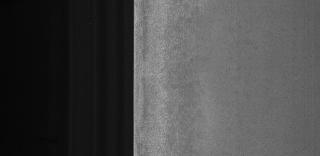silk spot: (167, 40, 201, 156)
